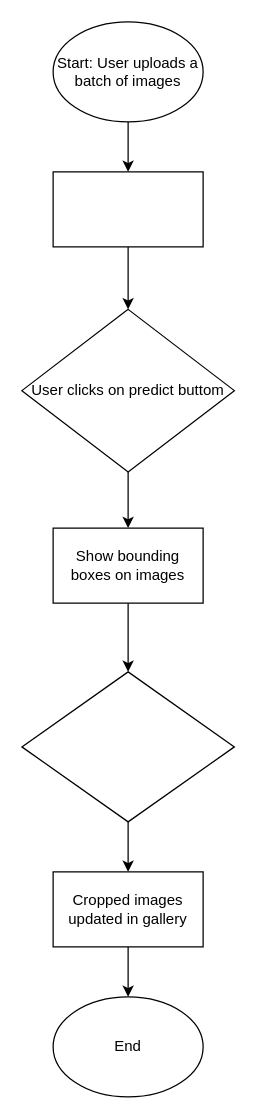
Some shapes in this 256 by 1119 pixel diagram are drawn without their labels. The centre of each missing label's shape, as x and y in pixels:
Display images in gallery: the point at 127,209
User clicks on crop button: the point at 127,746
